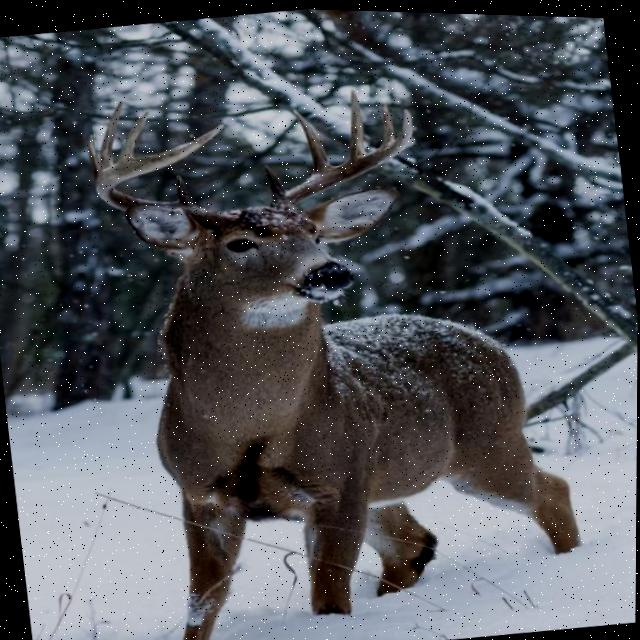L-F: (95, 122, 234, 229)
L-G1: (175, 174, 196, 204)
L-G3: (100, 99, 123, 166)
L-G4: (118, 109, 151, 159)
R-F: (278, 106, 413, 207)
R-G1: (264, 163, 286, 198)
R-G2: (292, 107, 332, 170)
R-G3: (349, 86, 367, 156)
R-G4: (382, 101, 395, 142)
